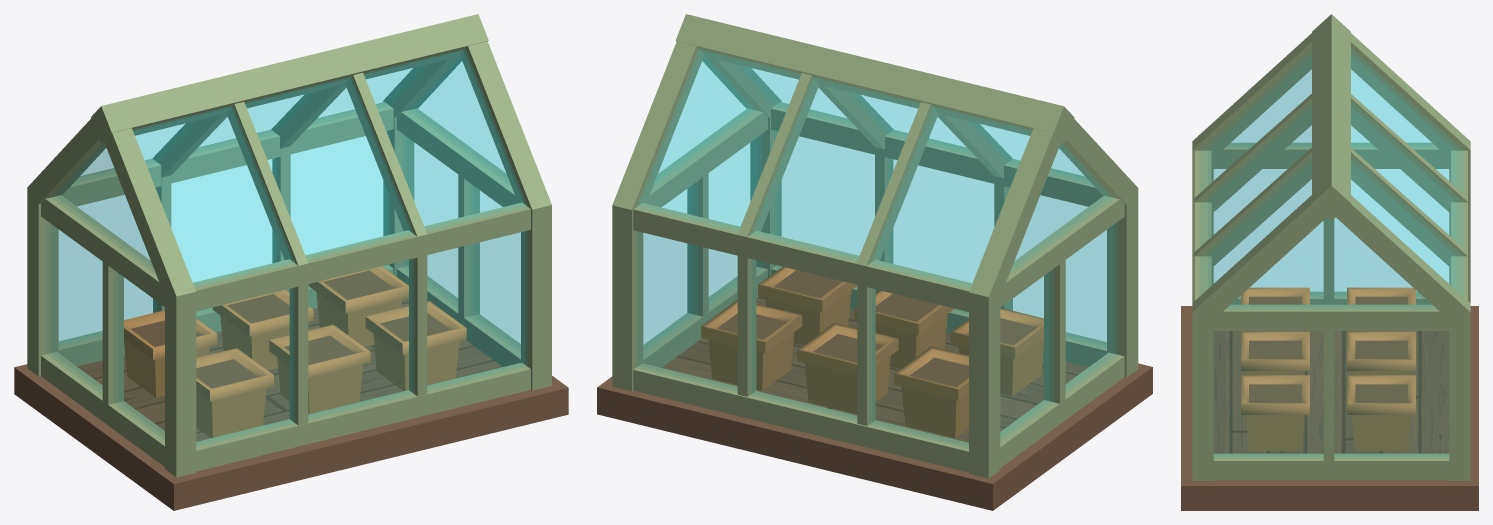
Rendered from greenhouse.glb.
3 views of the same model, side by side, from view 1: azimuth 30°, elevation 25°; view 2: azimuth 150°, elevation 25°; view 3: azimuth 270°, elevation 25° (orthographic). The views are drawn at different scales.
Visible parts, largest first — view 1: mur, toiture, sol, vitre_12, vitre_13, vitre_11, vitre_2, vitre_3, vitre_1, vitre_6, vitre_7, vitre_9 (+15 smaller); view 2: mur, toiture, sol, vitre_16, vitre_15, vitre_17, vitre_7, vitre_6, vitre_8, vitre_3, vitre_2, vitre_9 (+15 smaller); view 3: toiture, mur, sol, vitre_5, vitre_4, vitre_14, vitre_9, vitre_10, pot_5, pot_6, vitre_16, vitre_12 (+9 smaller).
Boxes of the visible parts, x1,y1,x2,y2 form: mur: [27, 102, 551, 477]; toiture: [27, 14, 551, 296]; sol: [14, 298, 568, 510]; vitre_12: [245, 78, 410, 256]; vitre_13: [364, 50, 523, 227]; vitre_11: [133, 107, 291, 284]; vitre_2: [308, 259, 411, 417]; vitre_3: [427, 232, 524, 388]; vitre_1: [196, 288, 292, 444]; vitre_6: [291, 136, 386, 254]; vitre_7: [172, 159, 273, 281]; vitre_9: [51, 224, 102, 389]; mur: [612, 101, 1138, 478]; toiture: [612, 14, 1137, 296]; sol: [597, 296, 1152, 510]; vitre_16: [753, 78, 919, 258]; vitre_15: [639, 50, 800, 229]; vitre_17: [872, 107, 1031, 285]; vitre_7: [752, 260, 856, 418]; vitre_6: [639, 232, 737, 389]; vitre_8: [872, 289, 968, 445]; vitre_3: [777, 131, 874, 254]; vitre_2: [890, 159, 993, 282]; vitre_9: [1000, 272, 1049, 436]; toiture: [1192, 14, 1470, 319]; mur: [1192, 142, 1470, 480]; sol: [1181, 306, 1478, 510]; vitre_5: [1334, 331, 1448, 456]; vitre_4: [1214, 331, 1323, 456]; vitre_14: [1228, 218, 1434, 307]; vitre_9: [1335, 169, 1448, 293]; vitre_10: [1214, 169, 1322, 293]; pot_5: [1241, 375, 1309, 450]; pot_6: [1347, 375, 1415, 450]; vitre_16: [1351, 107, 1456, 240]; vitre_12: [1207, 108, 1311, 239].
Size of the model in its own units: 4 by 3.33 by 2.8.
29 materials, 1 textured.
